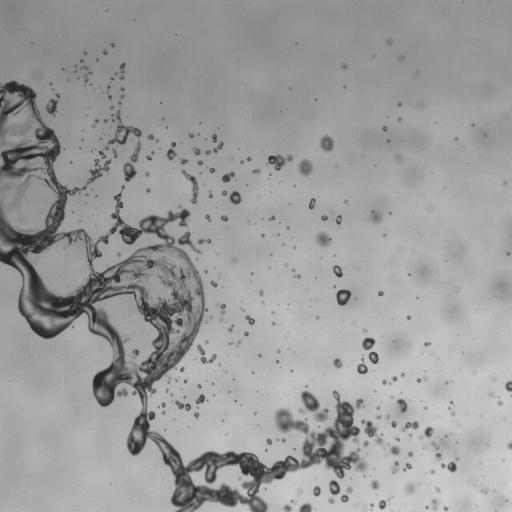droplet: (104, 111, 141, 149), (298, 389, 329, 422), (434, 452, 458, 472), (267, 154, 292, 170), (197, 345, 216, 363), (336, 289, 351, 305), (298, 159, 312, 176), (316, 232, 331, 247), (320, 135, 333, 152), (166, 142, 176, 159), (229, 190, 241, 204), (329, 480, 340, 495), (369, 210, 381, 223), (357, 359, 367, 374), (222, 171, 234, 182), (404, 483, 416, 494), (397, 399, 407, 412), (195, 394, 206, 405), (388, 445, 400, 455), (298, 503, 312, 511), (333, 265, 342, 277), (390, 461, 399, 473), (333, 358, 342, 368), (431, 498, 438, 510), (245, 315, 254, 324), (371, 480, 379, 489), (313, 486, 320, 496), (309, 198, 315, 209), (431, 441, 439, 449), (219, 304, 225, 314), (403, 463, 411, 470), (283, 504, 291, 511), (335, 215, 341, 224), (382, 379, 391, 385), (193, 147, 200, 154), (395, 155, 402, 161), (205, 214, 211, 221), (221, 215, 228, 221), (481, 487, 488, 493), (212, 134, 217, 142), (211, 281, 217, 287), (180, 159, 187, 164), (253, 168, 260, 173), (228, 325, 233, 332), (321, 215, 327, 220), (235, 340, 240, 346), (194, 412, 199, 418), (391, 421, 396, 427), (266, 438, 271, 444), (363, 440, 368, 446), (328, 498, 334, 503), (146, 155, 151, 160), (392, 376, 397, 381), (430, 469, 435, 474), (435, 487, 440, 492), (443, 506, 448, 511), (498, 399, 502, 405), (386, 40, 391, 44), (342, 64, 347, 68), (382, 126, 387, 130), (209, 168, 214, 172), (222, 190, 226, 195), (269, 216, 274, 220), (295, 274, 300, 278), (259, 290, 263, 295), (378, 291, 383, 295), (244, 331, 248, 336), (424, 342, 429, 346), (408, 452, 413, 456), (298, 488, 302, 493), (209, 191, 212, 197), (103, 50, 107, 54), (120, 94, 124, 98), (189, 134, 193, 138), (198, 160, 202, 164), (145, 172, 149, 176), (146, 188, 150, 192), (180, 367, 184, 371), (197, 384, 201, 388), (489, 392, 493, 396), (451, 411, 455, 415), (281, 438, 285, 442), (4, 184, 9, 187), (291, 500, 296, 503), (398, 102, 401, 106), (397, 117, 401, 120), (247, 157, 251, 160), (219, 317, 222, 321), (363, 328, 366, 332), (400, 373, 404, 376), (161, 403, 165, 406), (386, 415, 389, 419), (395, 437, 399, 440), (238, 476, 241, 480), (504, 498, 507, 502), (111, 43, 114, 46), (121, 87, 124, 90), (108, 95, 111, 98), (454, 137, 457, 140), (240, 160, 243, 163), (117, 253, 120, 256), (233, 258, 236, 261), (407, 316, 410, 319), (184, 379, 187, 382), (377, 415, 380, 418), (423, 445, 426, 448), (370, 504, 373, 507), (168, 377, 170, 381), (118, 102, 121, 104), (104, 119, 107, 121), (261, 234, 264, 236), (204, 270, 207, 272), (271, 311, 274, 313), (205, 341, 208, 343), (229, 342, 232, 344), (276, 350, 279, 352), (377, 406, 379, 409), (424, 407, 427, 409), (107, 86, 109, 88), (507, 253, 509, 255), (210, 316, 212, 318), (272, 322, 274, 324), (450, 401, 452, 403), (449, 407, 451, 409), (162, 411, 164, 413), (254, 412, 256, 414)
ligament: (0, 83, 365, 511), (361, 419, 386, 449), (123, 141, 141, 181), (181, 169, 198, 203), (362, 337, 378, 364), (46, 93, 59, 115), (205, 142, 223, 154), (419, 426, 433, 439), (340, 487, 352, 502), (401, 421, 418, 431), (174, 400, 190, 410), (378, 497, 390, 509), (119, 63, 125, 79), (82, 66, 92, 74), (198, 238, 211, 244), (505, 380, 511, 393), (147, 134, 157, 141), (417, 376, 426, 382), (92, 119, 98, 127), (112, 149, 117, 157), (507, 441, 511, 449), (85, 75, 88, 82)
